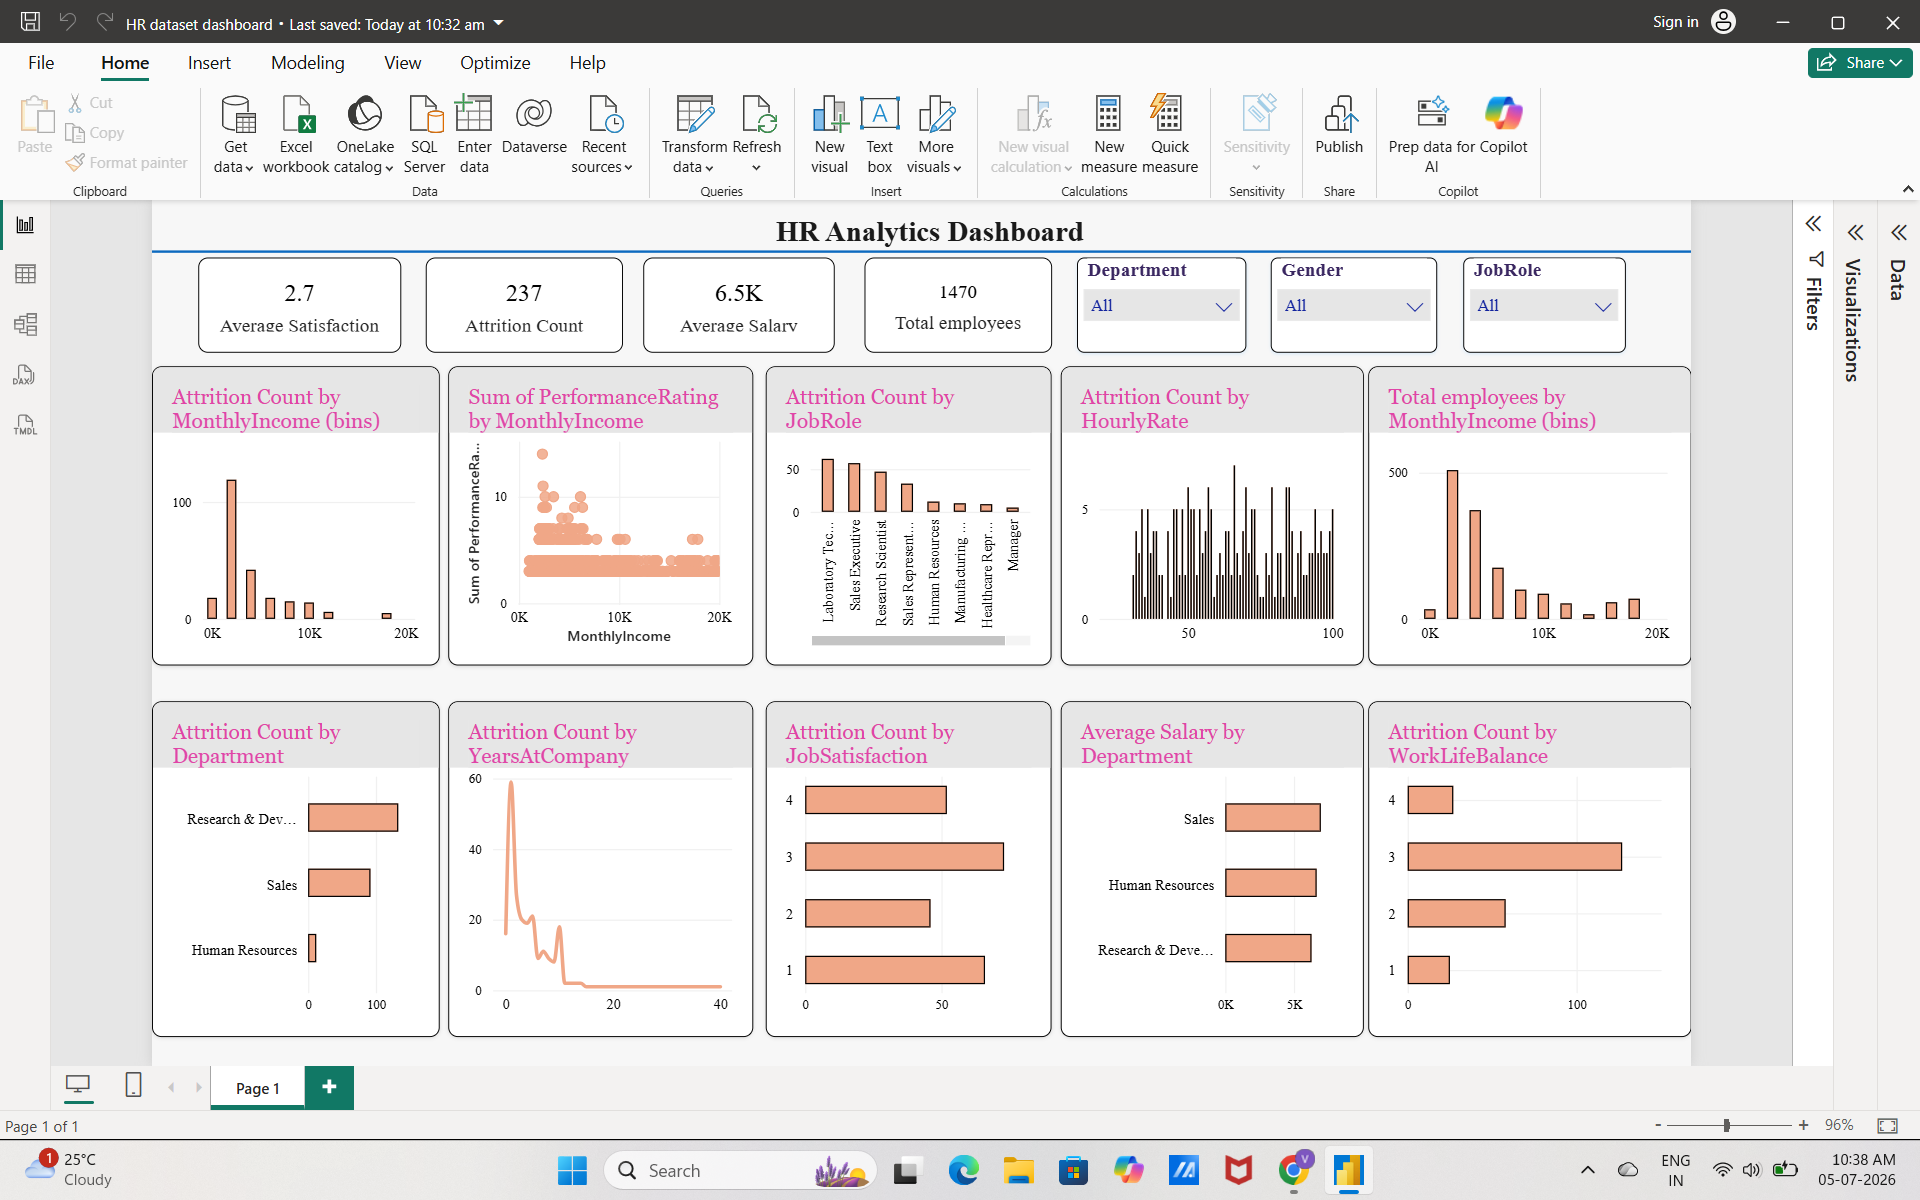

The page's visual inventory and layout, read from the dashboard file:
{"tool":"powerbi","page":{"name":"Page 1","canvas":[1280,720],"ordinal":0},"visuals":[{"type":"card","fields":{"Values":["WA_Fn-UseC_-HR-Employee-Attrition.Attrition Count"]},"box":[227.9,47.7,164,79.1],"z":0},{"type":"card","fields":{"Values":["WA_Fn-UseC_-HR-Employee-Attrition.Average Salary"]},"box":[408.1,47.7,159.3,79.1],"z":1000},{"type":"card","fields":{"Values":["WA_Fn-UseC_-HR-Employee-Attrition.Average Satisfaction"]},"box":[38.4,47.7,168.6,79.1],"z":2000},{"type":"card","fields":{"Values":["WA_Fn-UseC_-HR-Employee-Attrition.Total employees"]},"box":[591.9,47.7,155.8,79.1],"z":4000},{"type":"barChart","fields":{"Category":["WA_Fn-UseC_-HR-Employee-Attrition.Department"],"Y":["WA_Fn-UseC_-HR-Employee-Attrition.Attrition Count"]},"box":[0,416.3,239.5,279.1],"z":5000},{"type":"lineChart","fields":{"Category":["WA_Fn-UseC_-HR-Employee-Attrition.YearsAtCompany"],"Y":["WA_Fn-UseC_-HR-Employee-Attrition.Attrition Count"]},"box":[246.5,416.3,253.5,279.1],"z":6000},{"type":"slicer","fields":{"Values":["WA_Fn-UseC_-HR-Employee-Attrition.Department"]},"box":[768.6,47.7,140.7,79.1],"z":7000},{"type":"slicer","fields":{"Values":["WA_Fn-UseC_-HR-Employee-Attrition.Gender"]},"box":[930.2,47.7,138.4,79.1],"z":8000},{"type":"slicer","fields":{"Values":["WA_Fn-UseC_-HR-Employee-Attrition.JobRole"]},"box":[1090.7,47.7,134.9,79.1],"z":9000},{"type":"shape","box":[0,37,1280.3,11],"z":10000},{"type":"textbox","box":[120.8,12.2,1052.4,50.5],"z":11000},{"type":"columnChart","fields":{"Category":["WA_Fn-UseC_-HR-Employee-Attrition.MonthlyIncome (bins)"],"Y":["WA_Fn-UseC_-HR-Employee-Attrition.Attrition Count"]},"box":[0,138.4,239.5,248.8],"z":12000},{"type":"barChart","fields":{"Category":["WA_Fn-UseC_-HR-Employee-Attrition.JobSatisfaction"],"Y":["WA_Fn-UseC_-HR-Employee-Attrition.Attrition Count"]},"box":[510.5,416.3,237.2,279.1],"z":13000},{"type":"scatterChart","fields":{"X":["WA_Fn-UseC_-HR-Employee-Attrition.MonthlyIncome"],"Y":["Sum(WA_Fn-UseC_-HR-Employee-Attrition.PerformanceRating)"]},"box":[246.5,138.4,253.5,248.8],"z":14000},{"type":"barChart","fields":{"Category":["WA_Fn-UseC_-HR-Employee-Attrition.Department"],"Y":["WA_Fn-UseC_-HR-Employee-Attrition.Average Salary"]},"box":[755.8,416.3,252.3,279.1],"z":15000},{"type":"columnChart","fields":{"Category":["WA_Fn-UseC_-HR-Employee-Attrition.JobRole"],"Y":["WA_Fn-UseC_-HR-Employee-Attrition.Attrition Count"]},"box":[510.5,138.4,237.2,248.8],"z":16000},{"type":"clusteredBarChart","fields":{"Category":["WA_Fn-UseC_-HR-Employee-Attrition.WorkLifeBalance"],"Y":["WA_Fn-UseC_-HR-Employee-Attrition.Attrition Count"]},"box":[1011.6,416.3,268.6,279.1],"z":17000},{"type":"columnChart","fields":{"Category":["WA_Fn-UseC_-HR-Employee-Attrition.HourlyRate"],"Y":["WA_Fn-UseC_-HR-Employee-Attrition.Attrition Count"]},"box":[755.8,138.4,252.3,248.8],"z":18000},{"type":"columnChart","fields":{"Category":["WA_Fn-UseC_-HR-Employee-Attrition.MonthlyIncome (bins)"],"Y":["WA_Fn-UseC_-HR-Employee-Attrition.Total employees"]},"box":[1011.6,138.4,268.6,248.8],"z":19000}]}

Visuals, with their boxes on the page's 1280x720 design canvas (x1, y1, x2, y2). These are canvas units, not pixel positions in the 1920x1200 screenshot, which may show the page scaled, cropped or inside an application window:
card - WA_Fn-UseC_-HR-Employee-Attrition.Attrition Count: bbox=[228, 48, 392, 127]
card - WA_Fn-UseC_-HR-Employee-Attrition.Average Salary: bbox=[408, 48, 567, 127]
card - WA_Fn-UseC_-HR-Employee-Attrition.Average Satisfaction: bbox=[38, 48, 207, 127]
card - WA_Fn-UseC_-HR-Employee-Attrition.Total employees: bbox=[592, 48, 748, 127]
barChart - WA_Fn-UseC_-HR-Employee-Attrition.Department x WA_Fn-UseC_-HR-Employee-Attrition.Attrition Count: bbox=[0, 416, 240, 695]
lineChart - WA_Fn-UseC_-HR-Employee-Attrition.YearsAtCompany x WA_Fn-UseC_-HR-Employee-Attrition.Attrition Count: bbox=[246, 416, 500, 695]
slicer - WA_Fn-UseC_-HR-Employee-Attrition.Department: bbox=[769, 48, 909, 127]
slicer - WA_Fn-UseC_-HR-Employee-Attrition.Gender: bbox=[930, 48, 1069, 127]
slicer - WA_Fn-UseC_-HR-Employee-Attrition.JobRole: bbox=[1091, 48, 1226, 127]
shape: bbox=[0, 37, 1280, 48]
textbox: bbox=[121, 12, 1173, 63]
columnChart - WA_Fn-UseC_-HR-Employee-Attrition.MonthlyIncome (bins) x WA_Fn-UseC_-HR-Employee-Attrition.Attrition Count: bbox=[0, 138, 240, 387]
barChart - WA_Fn-UseC_-HR-Employee-Attrition.JobSatisfaction x WA_Fn-UseC_-HR-Employee-Attrition.Attrition Count: bbox=[510, 416, 748, 695]
scatterChart - WA_Fn-UseC_-HR-Employee-Attrition.MonthlyIncome x Sum(WA_Fn-UseC_-HR-Employee-Attrition.PerformanceRating): bbox=[246, 138, 500, 387]
barChart - WA_Fn-UseC_-HR-Employee-Attrition.Department x WA_Fn-UseC_-HR-Employee-Attrition.Average Salary: bbox=[756, 416, 1008, 695]
columnChart - WA_Fn-UseC_-HR-Employee-Attrition.JobRole x WA_Fn-UseC_-HR-Employee-Attrition.Attrition Count: bbox=[510, 138, 748, 387]
clusteredBarChart - WA_Fn-UseC_-HR-Employee-Attrition.WorkLifeBalance x WA_Fn-UseC_-HR-Employee-Attrition.Attrition Count: bbox=[1012, 416, 1280, 695]
columnChart - WA_Fn-UseC_-HR-Employee-Attrition.HourlyRate x WA_Fn-UseC_-HR-Employee-Attrition.Attrition Count: bbox=[756, 138, 1008, 387]
columnChart - WA_Fn-UseC_-HR-Employee-Attrition.MonthlyIncome (bins) x WA_Fn-UseC_-HR-Employee-Attrition.Total employees: bbox=[1012, 138, 1280, 387]
